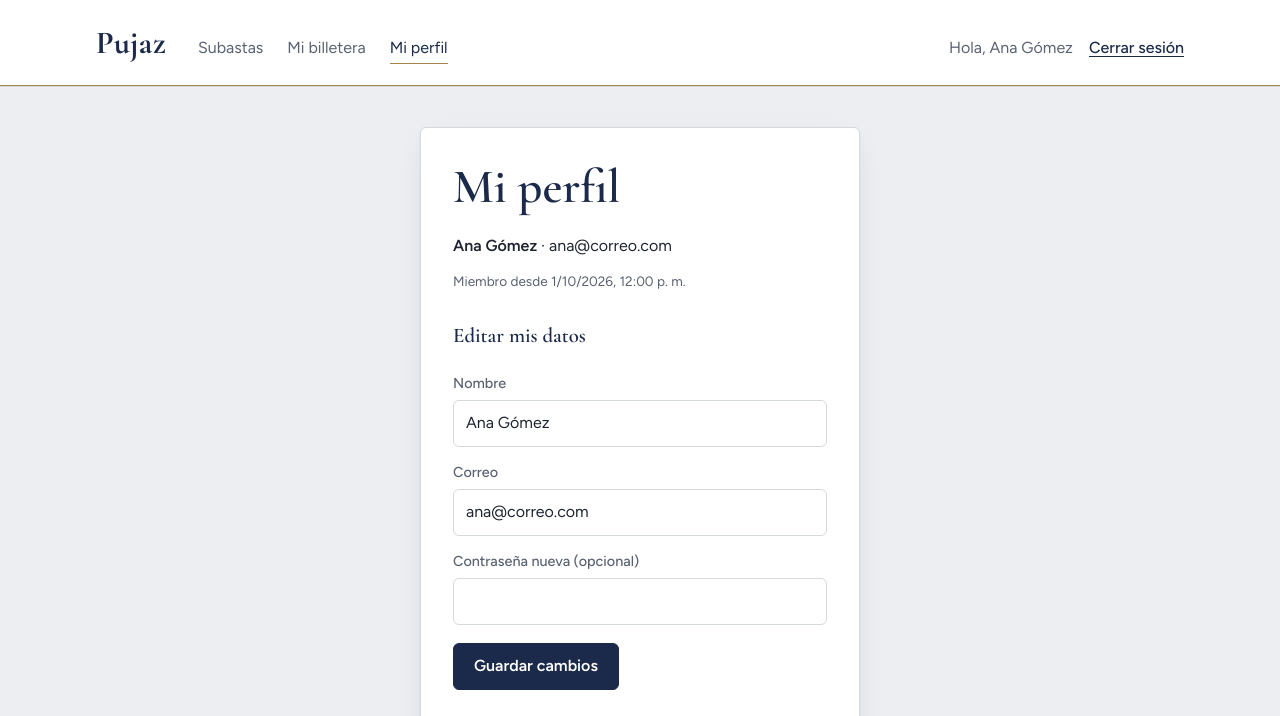
PerfilPage › guarda solo lo que cambió
This screenshot has width=1280, height=716.
Step 1. Replace the text in the field labelled "Nombre" with "Ana María Gómez" → (640, 424), box [453,400,827,447]
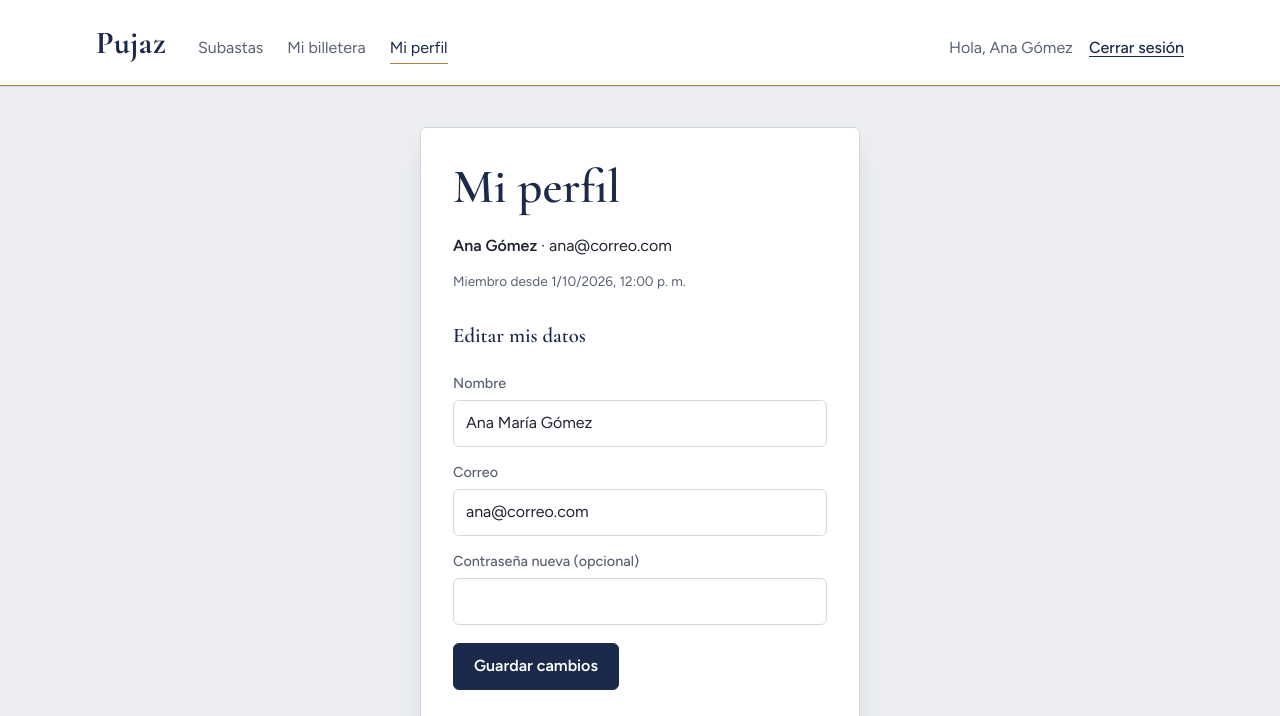
Step 2. Click the button "Guardar cambios" → (536, 666), box [453,643,619,690]
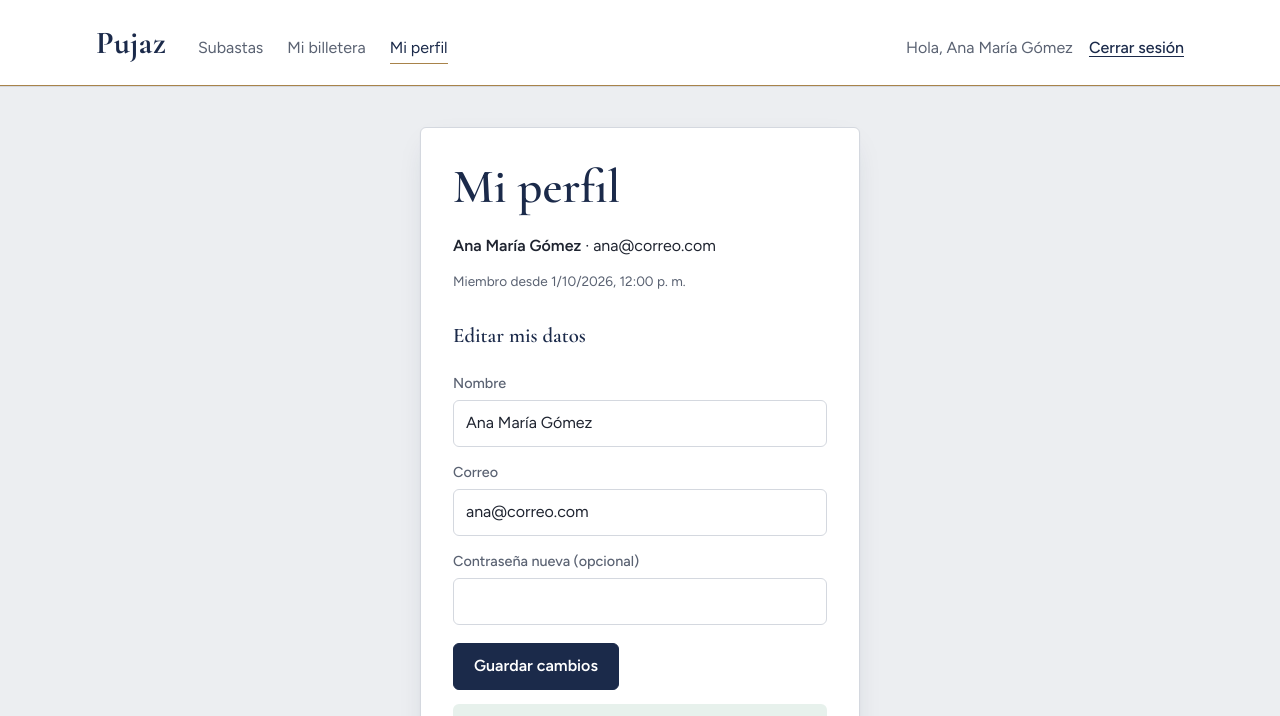
Expected: the text "Hola, Ana María Gómez" is shown, [906,36,1073,61]
